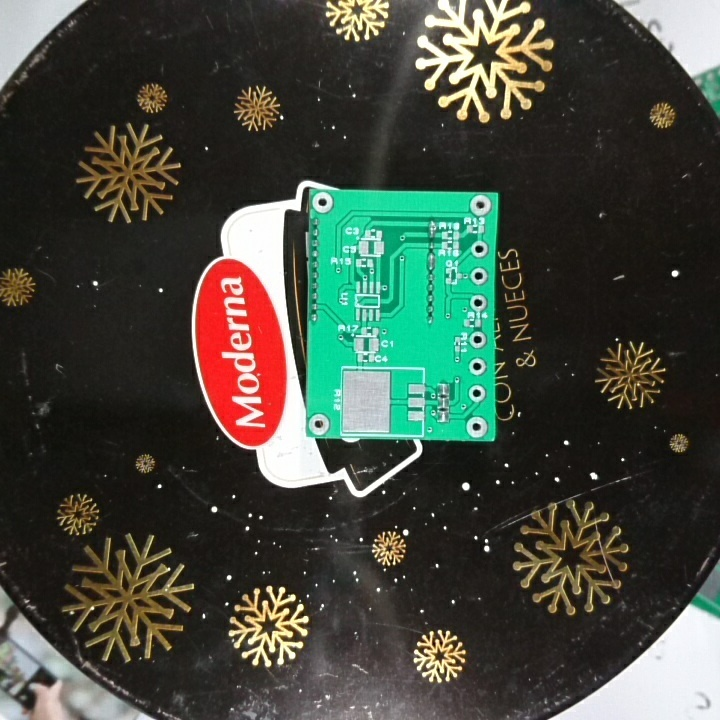F: (466, 193, 494, 219), (464, 413, 491, 439), (306, 412, 331, 438), (468, 237, 494, 261), (311, 191, 337, 215), (468, 265, 492, 287), (467, 329, 489, 351), (466, 383, 488, 404), (467, 358, 489, 378), (468, 294, 489, 312)
P: (425, 218, 439, 240), (425, 250, 437, 273)
